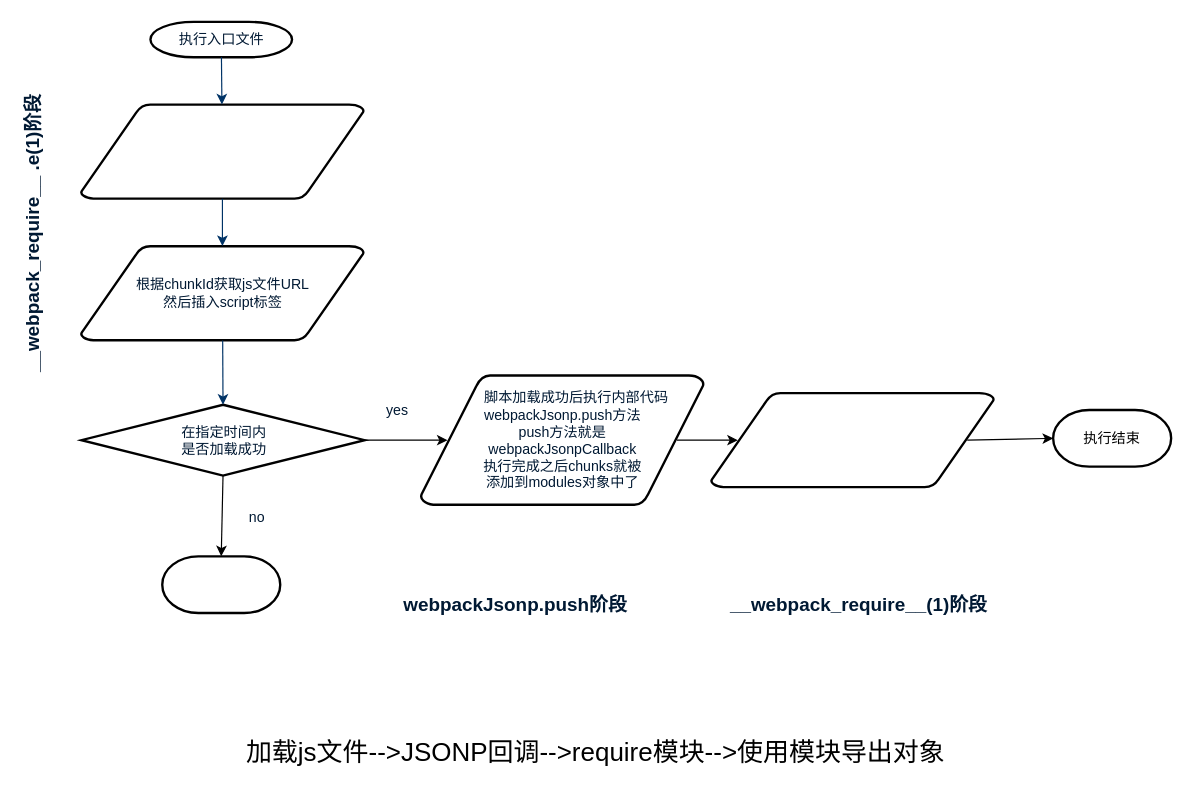
Some shapes in this 1192 by 788 pixel diagram are drawn without their labels. The shapes that lost their labels are listed below. From the top down, each one's centre as x and y in pixels, then its label:
At pixel 222 151: "执行__webpack_require__ .e(1) 开始执行加载chunk的逻辑".
At pixel 852 439: "执行__webpack_require__(1) 加载模块，返回模块内容 然后使用模块的内容".
At pixel 220 584: "抛出错误 执行结束".
